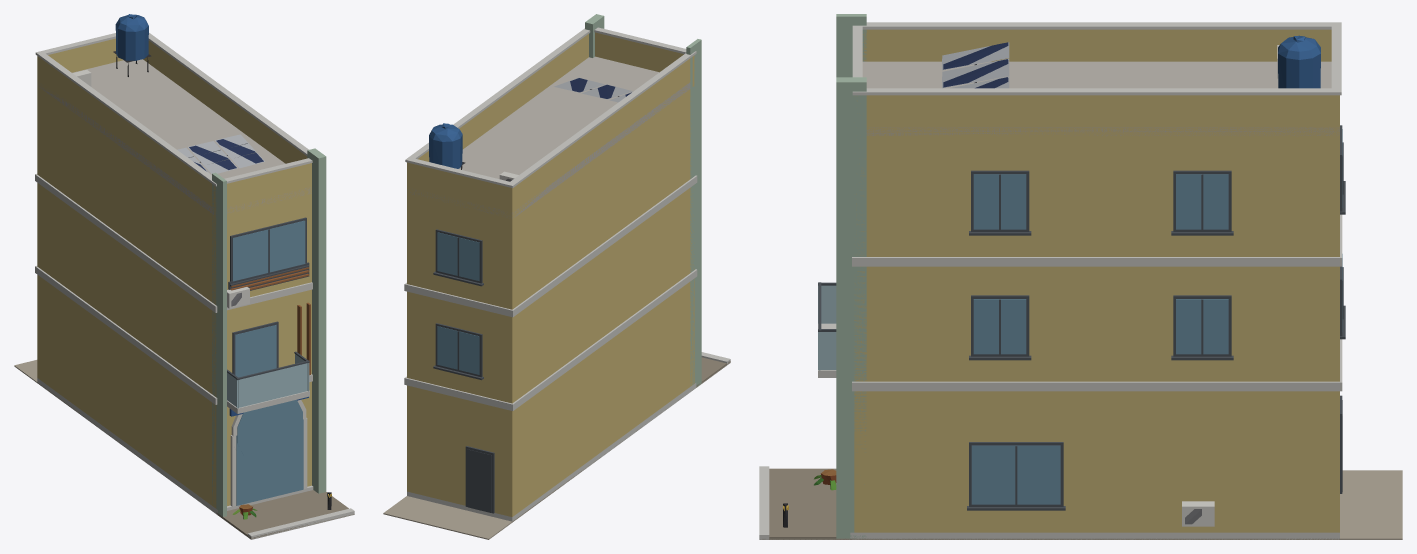
File: bay1_right.glb
3 views of the same model, side by side, from view 1: azimuth 30°, elevation 25°; view 2: azimuth 150°, elevation 25°; view 3: azimuth 270°, elevation 25° (orthographic). The views are drawn at different scales.
Parts seen in each view (by area): view 1: body; view 2: body; view 3: body.
Boxes of the visible parts, <box> form: body: <box>14,14,354,539</box>; body: <box>383,14,730,539</box>; body: <box>759,14,1402,539</box>.
Bounding box in the file's own units: 4.42 × 13.34 × 15.9.
